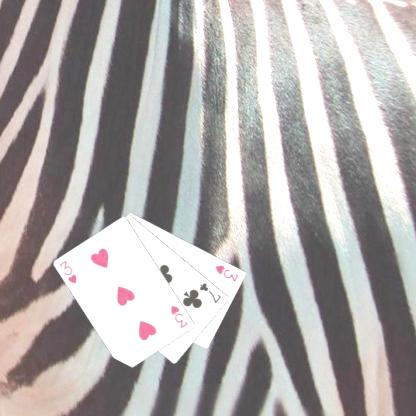3H: (168, 302, 190, 330), (213, 262, 240, 284), (57, 258, 78, 285)
7C: (197, 280, 223, 304)
